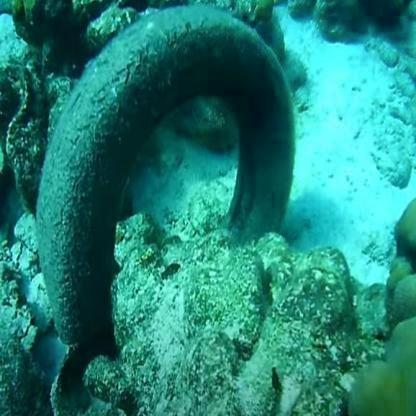tire: (72, 13, 302, 343)
